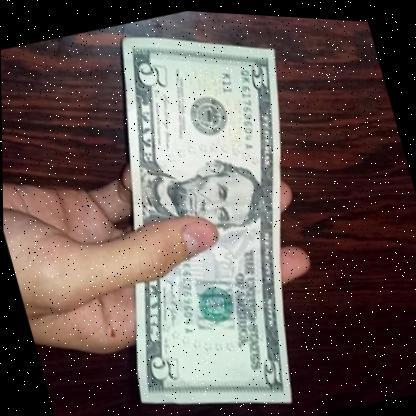five-front: (42, 2, 364, 416)
